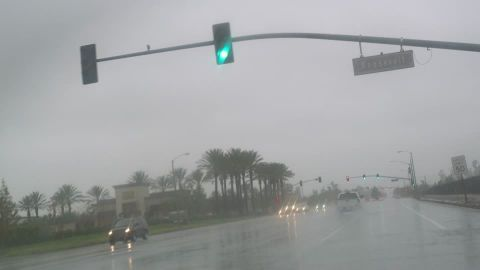car: (108, 217, 149, 244), (335, 191, 361, 214), (294, 202, 307, 213), (315, 200, 327, 211), (286, 203, 295, 213)
